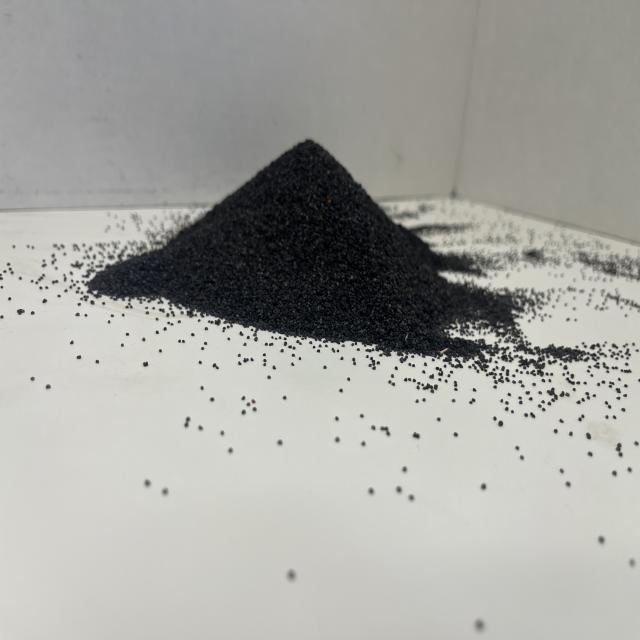Poppy Seeds: (76, 100, 554, 392)
